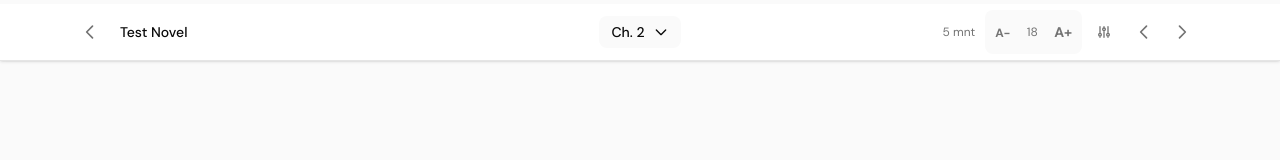
Test: ChapterReaderNav › increases font size when A+ is clicked
Expected: the text "18" is shown, [1027,24,1038,40]
Click the button "A+".
click(1063, 32)  # box [1048,14,1078,50]
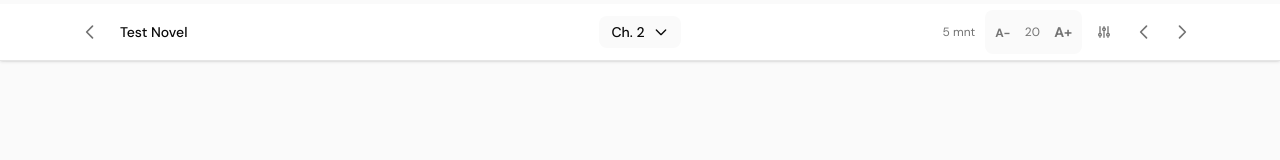
Now the text "20" is shown, box [1025,24,1040,40]
